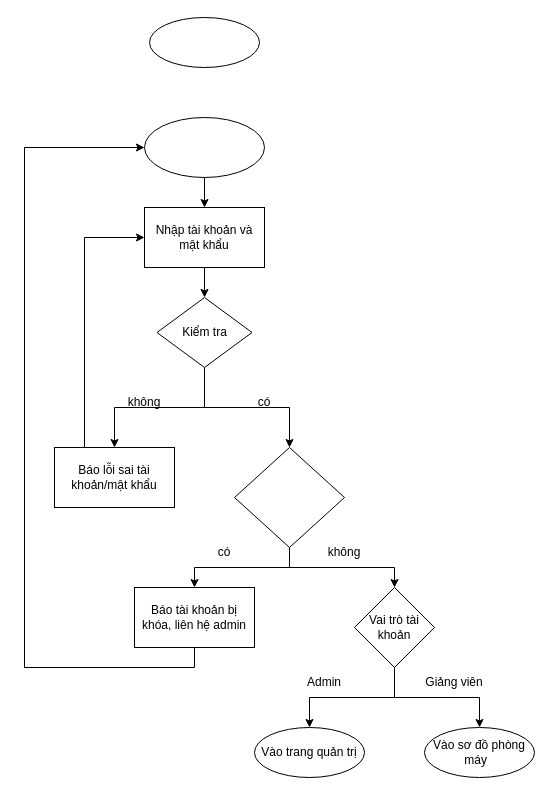
Some shapes in this 552 by 795 pixel diagram are drawn without their labels. The box of each missing label's shape, as (x1, y1, x2, y2) in pixels:
Begin: (148, 16, 260, 68)
Màn hình đăng nhập: (144, 116, 264, 178)
Tài khoản bị khóa?: (234, 446, 344, 548)
